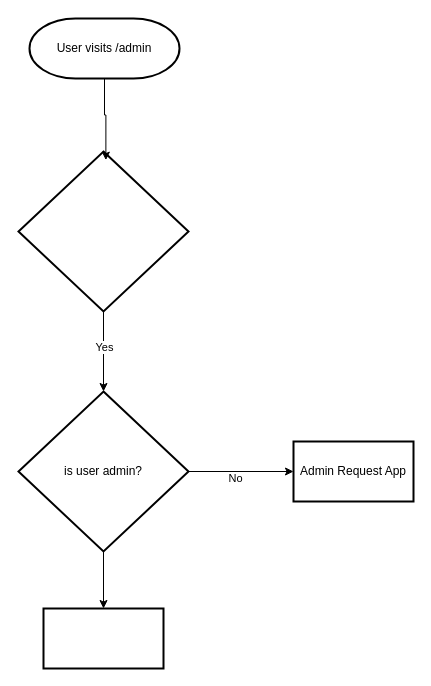
This 431x686 diagram has some shape labels left out. Each missing label, with the centre of its shape:
Admin Dashboard: [103,638]
is user signed in with phone number?: [103,231]
